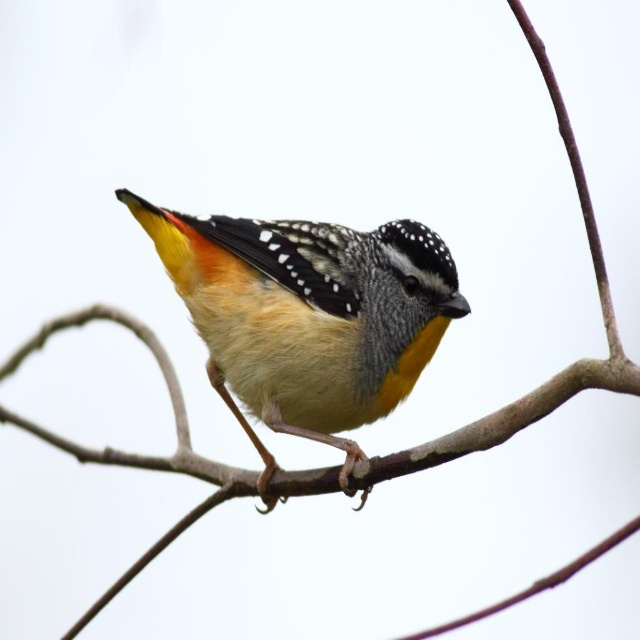Sparrow: (113, 187, 476, 517)
